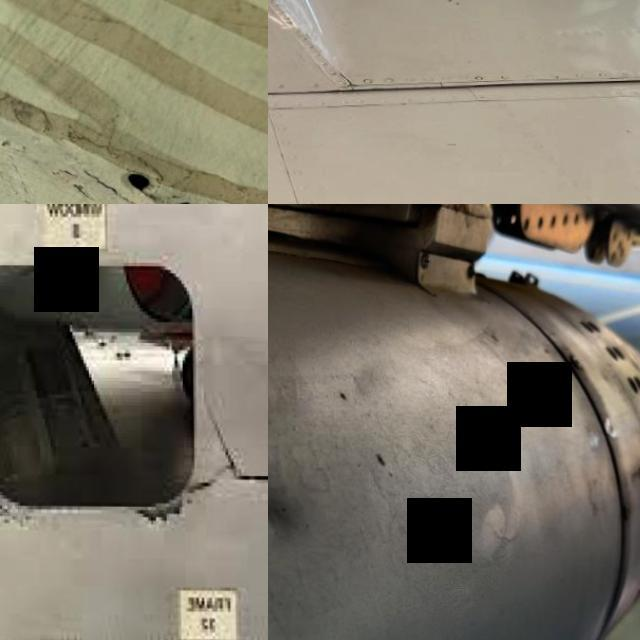Crack: (190, 453, 268, 564), (151, 179, 268, 204)
Dent: (268, 453, 334, 573)
